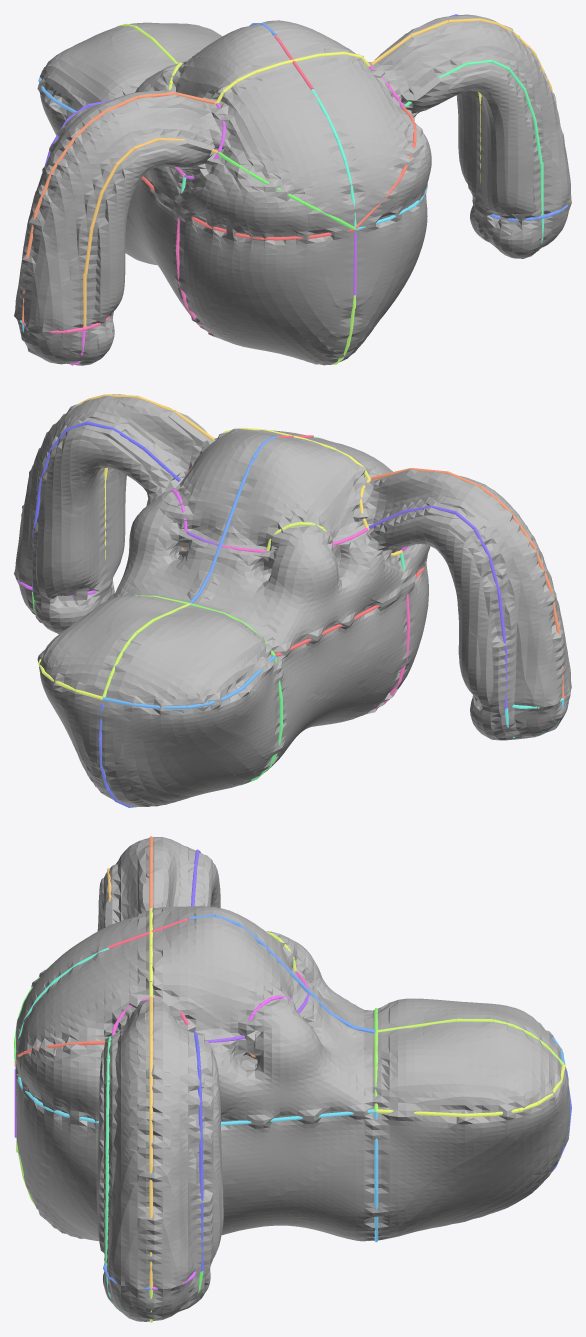
Rendered from scaffolds3d_dog.gltf.
The picture shows the model from 3 angles, top to bottom: view 1: azimuth 30°, elevation 25°; view 2: azimuth 150°, elevation 25°; view 3: azimuth 270°, elevation 25°; orthographic projection. The views are drawn at different scales.
Bounding box in the file's own units: 0.7221 × 0.3768 × 0.5917.
